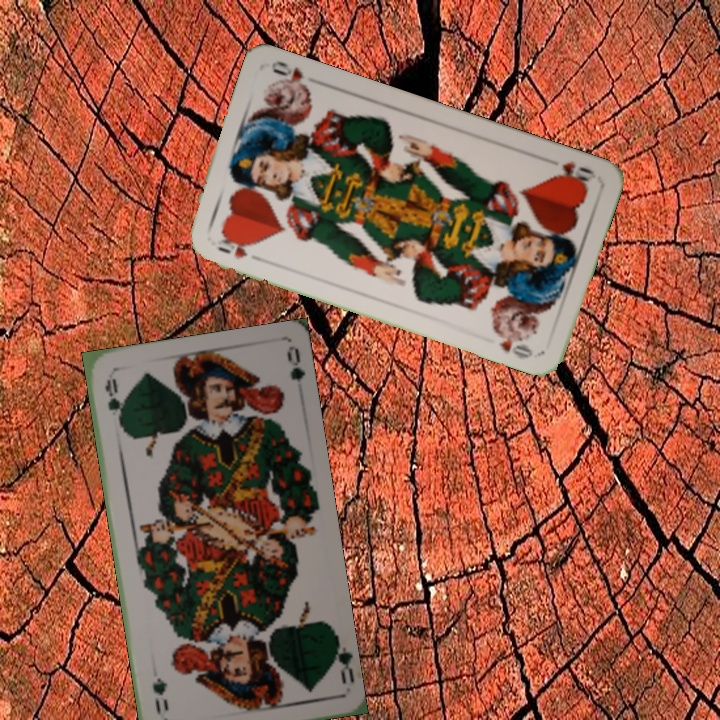GO: (325, 631, 355, 686), (101, 374, 126, 431)
HO: (549, 157, 599, 188), (214, 232, 255, 262)
